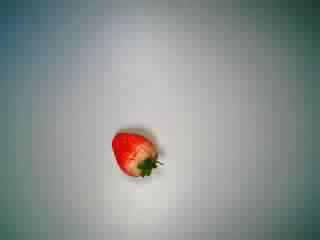strawberry: (105, 122, 173, 186)
